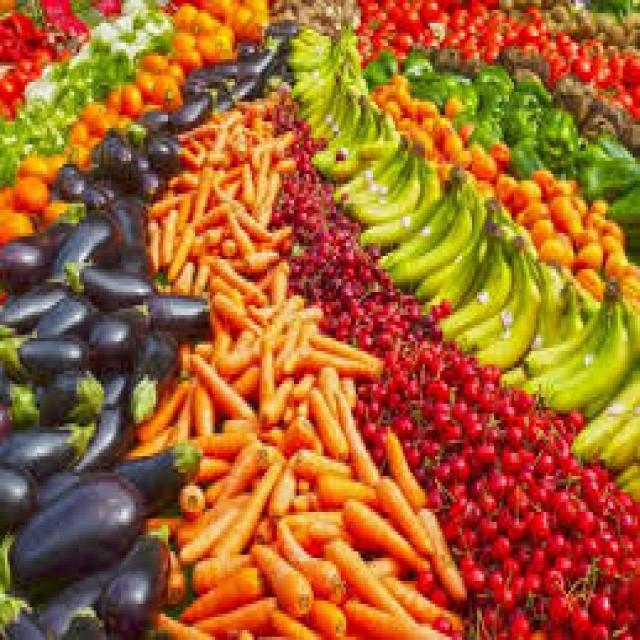organic waste: (0, 0, 638, 637), (2, 308, 180, 636), (185, 354, 425, 558), (161, 479, 452, 637), (457, 446, 638, 637), (2, 240, 202, 397), (420, 378, 568, 578), (502, 266, 638, 423), (412, 200, 544, 361), (225, 302, 390, 423), (351, 141, 482, 282), (0, 472, 148, 590), (519, 492, 637, 637), (373, 446, 465, 614), (178, 95, 289, 220), (193, 230, 279, 384), (44, 161, 144, 282), (198, 132, 289, 260), (141, 364, 257, 463), (312, 82, 406, 194), (151, 180, 237, 298), (564, 328, 638, 463), (5, 558, 119, 637), (289, 23, 366, 135), (492, 167, 613, 233), (99, 525, 168, 637), (410, 95, 502, 177), (376, 351, 442, 453), (292, 233, 376, 309), (331, 286, 415, 351), (556, 72, 638, 138), (0, 98, 74, 170), (0, 3, 54, 101), (0, 141, 62, 223), (99, 115, 173, 180), (514, 26, 598, 79), (420, 0, 499, 56), (106, 66, 186, 121), (274, 178, 348, 236), (576, 46, 638, 115), (358, 0, 445, 49), (531, 95, 586, 171), (62, 95, 128, 158), (435, 358, 492, 430), (576, 135, 638, 200), (138, 23, 202, 85), (371, 69, 435, 131), (538, 233, 638, 272), (168, 0, 227, 66), (504, 128, 551, 200), (186, 56, 250, 108), (472, 10, 544, 56), (158, 85, 220, 138), (497, 86, 551, 144), (67, 39, 121, 92), (128, 10, 180, 59), (467, 59, 514, 112), (600, 180, 638, 240), (237, 40, 282, 89), (432, 63, 477, 109), (37, 0, 79, 49), (541, 0, 601, 33), (464, 111, 506, 158), (289, 138, 319, 203), (59, 600, 109, 636), (215, 0, 269, 33), (262, 16, 294, 66), (408, 315, 437, 364), (598, 13, 638, 46), (499, 49, 546, 76), (400, 49, 438, 82), (358, 56, 401, 85), (516, 78, 551, 112), (69, 0, 99, 36), (413, 66, 440, 102), (618, 447, 638, 492), (94, 0, 116, 23)
